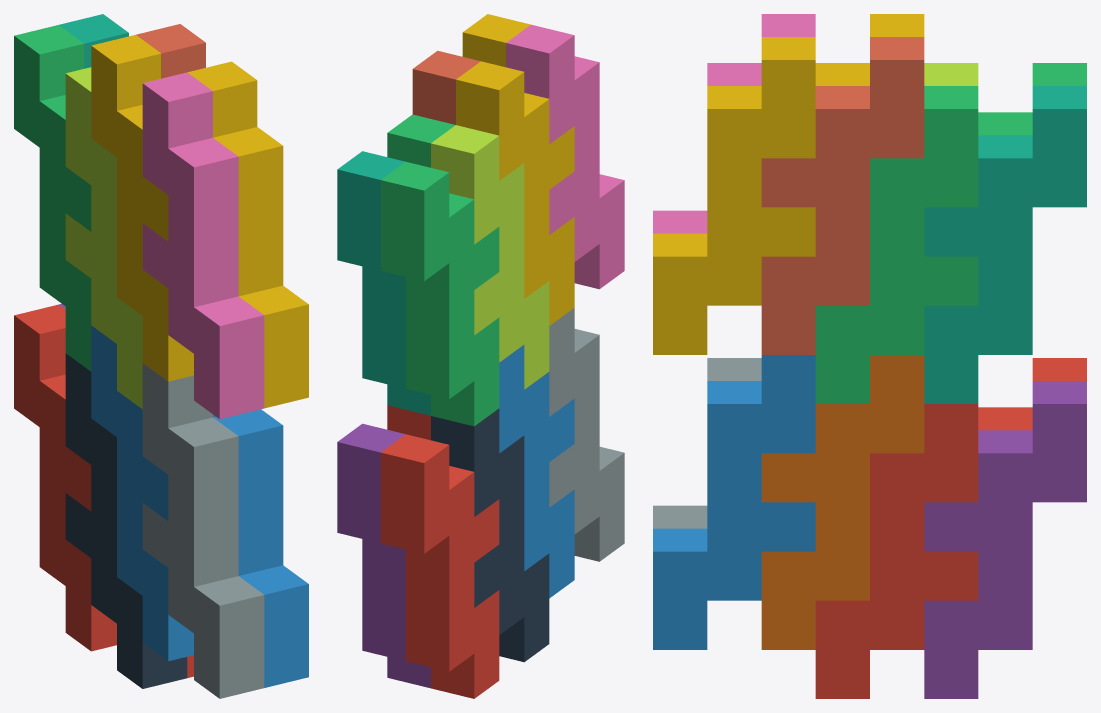
The model's file is tiling.obj.
The picture shows the model from 3 angles, left to right: view 1: azimuth 30°, elevation 25°; view 2: azimuth 150°, elevation 25°; view 3: azimuth 270°, elevation 25°; orthographic projection. The views are drawn at different scales.
Parts seen in each view (by area): view 1: copy_2_domain_4, copy_2_domain_2, copy_2_domain_8, copy_1_domain_4, copy_1_domain_1, copy_1_domain_3, copy_2_domain_6, copy_2_domain_1, copy_1_domain_2, copy_2_domain_3, copy_1_domain_8, copy_1_domain_7; view 2: copy_1_domain_3, copy_1_domain_1, copy_2_domain_4, copy_1_domain_4, copy_2_domain_3, copy_2_domain_1, copy_2_domain_2, copy_1_domain_7, copy_1_domain_5, copy_1_domain_2, copy_1_domain_8, copy_2_domain_7 (+2 smaller); view 3: copy_2_domain_8, copy_1_domain_8, copy_1_domain_5, copy_1_domain_7, copy_2_domain_6, copy_2_domain_7, copy_1_domain_6, copy_2_domain_5, copy_2_domain_4, copy_1_domain_1, copy_1_domain_3, copy_2_domain_2 (+2 smaller).
Boxes of the visible parts, x1,y1,x2,y2 form: copy_2_domain_4: [142, 72, 264, 419]; copy_2_domain_2: [142, 363, 264, 698]; copy_2_domain_8: [187, 61, 308, 408]; copy_1_domain_4: [91, 34, 193, 381]; copy_1_domain_1: [14, 304, 116, 651]; copy_1_domain_3: [14, 25, 91, 371]; copy_2_domain_6: [213, 409, 308, 687]; copy_2_domain_1: [65, 353, 187, 688]; copy_1_domain_2: [91, 325, 193, 661]; copy_2_domain_3: [65, 67, 142, 408]; copy_1_domain_8: [136, 24, 205, 78]; copy_1_domain_7: [59, 14, 128, 68]; copy_1_domain_3: [380, 162, 499, 426]; copy_1_domain_1: [380, 434, 499, 698]; copy_2_domain_4: [506, 24, 624, 289]; copy_1_domain_4: [456, 61, 574, 325]; copy_2_domain_3: [431, 125, 549, 389]; copy_2_domain_1: [431, 408, 549, 662]; copy_2_domain_2: [549, 308, 624, 561]; copy_1_domain_7: [337, 151, 430, 415]; copy_1_domain_5: [337, 423, 430, 688]; copy_1_domain_2: [499, 345, 574, 598]; copy_1_domain_8: [412, 50, 480, 124]; copy_2_domain_7: [387, 114, 455, 167]; copy_2_domain_8: [653, 37, 815, 354]; copy_1_domain_8: [761, 37, 924, 354]; copy_1_domain_5: [924, 381, 1086, 698]; copy_1_domain_7: [924, 86, 1086, 403]; copy_2_domain_6: [653, 355, 815, 649]; copy_2_domain_7: [815, 86, 978, 403]; copy_1_domain_6: [761, 355, 924, 649]; copy_2_domain_5: [815, 404, 978, 698]; copy_2_domain_4: [653, 14, 815, 233]; copy_1_domain_1: [978, 358, 1086, 430]; copy_1_domain_3: [978, 63, 1086, 135]; copy_2_domain_2: [653, 358, 761, 528].
Bounding box in the file's own units: 2 × 13 × 8.
